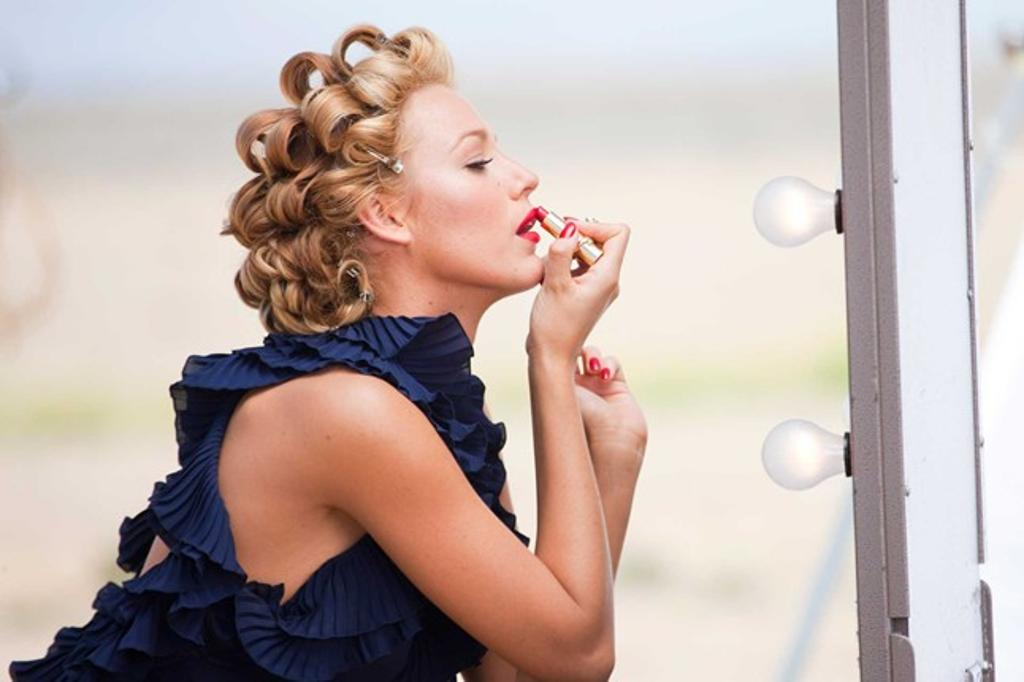face: (390, 80, 542, 296)
